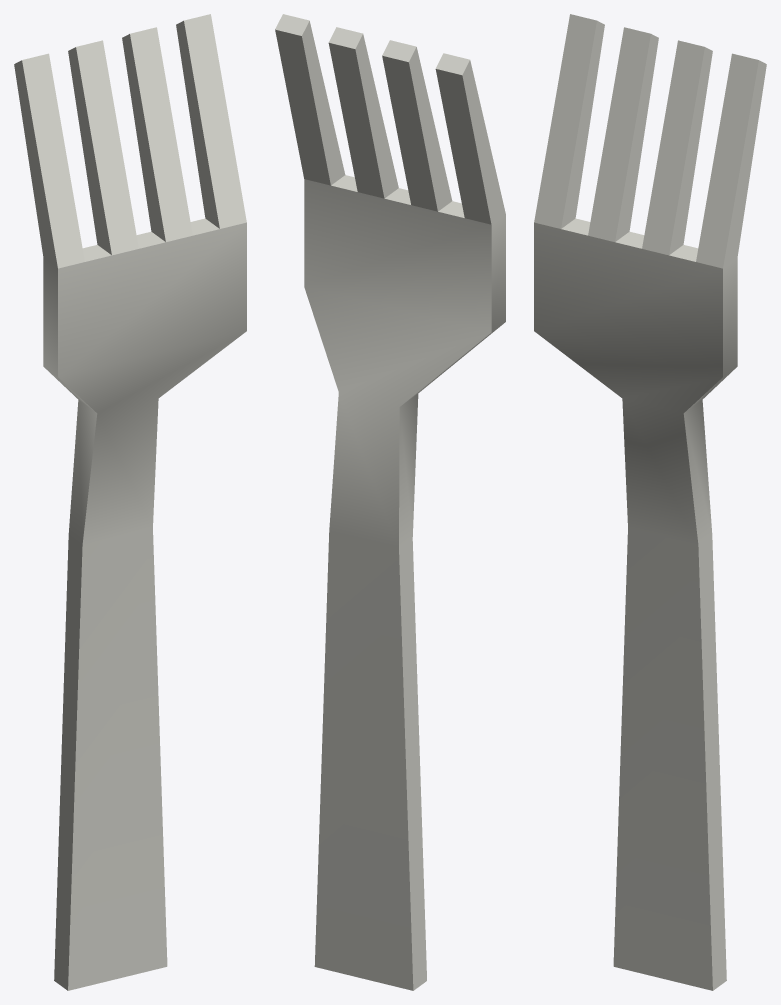
Rendered from 0012_Fork.glb.
The picture shows the model from 3 angles, left to right: view 1: azimuth 30°, elevation 25°; view 2: azimuth 150°, elevation 25°; view 3: azimuth 330°, elevation 25°; orthographic projection.
Visible parts, largest first — view 1: part_0; view 2: part_0; view 3: part_0.
Boxes of the visible parts, x1,y1,x2,y2 form: part_0: [14, 14, 246, 990]; part_0: [275, 14, 505, 990]; part_0: [534, 14, 766, 990].
Bounding box in the file's own units: 0.025 × 0.1188 × 0.0111.
Materials: 1 (1 with a texture image).
